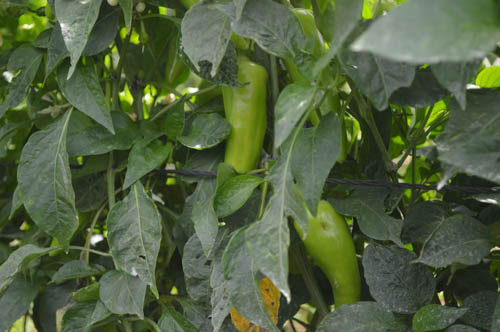ChiliPepper: (297, 202, 362, 311), (219, 62, 269, 196)
